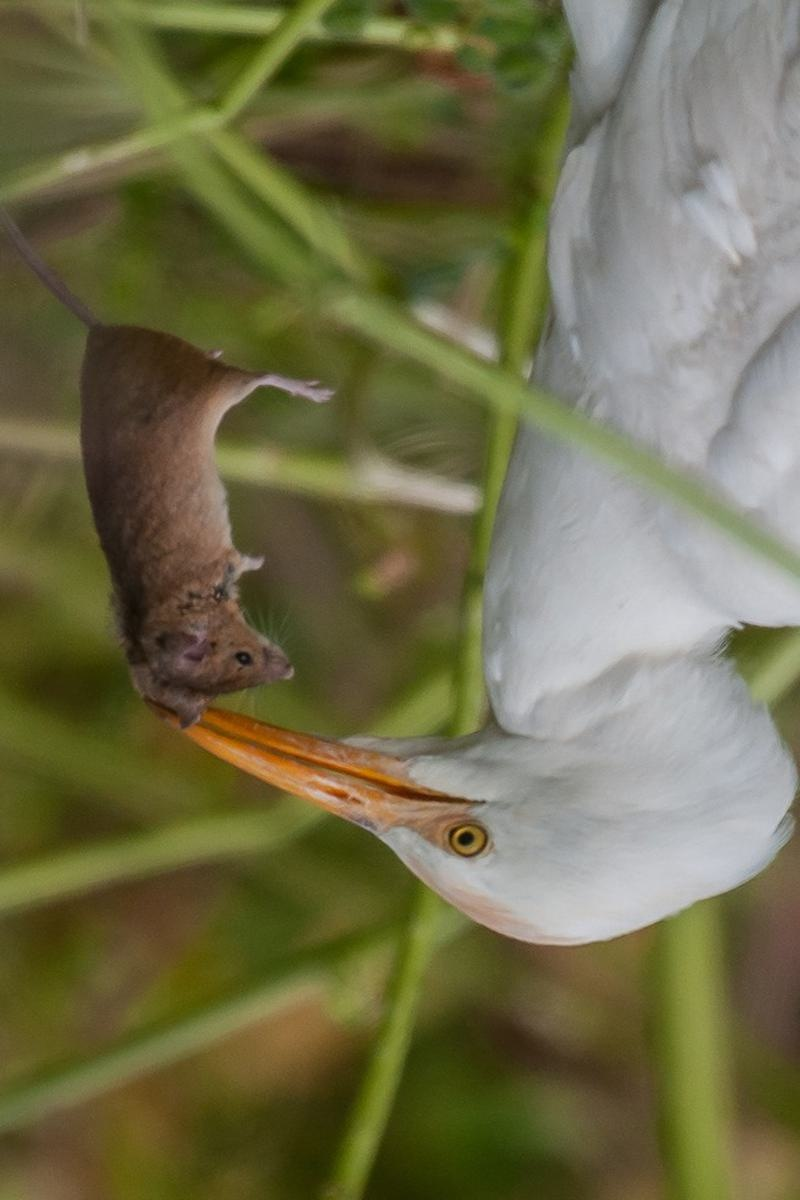egret: (164, 1, 800, 949)
